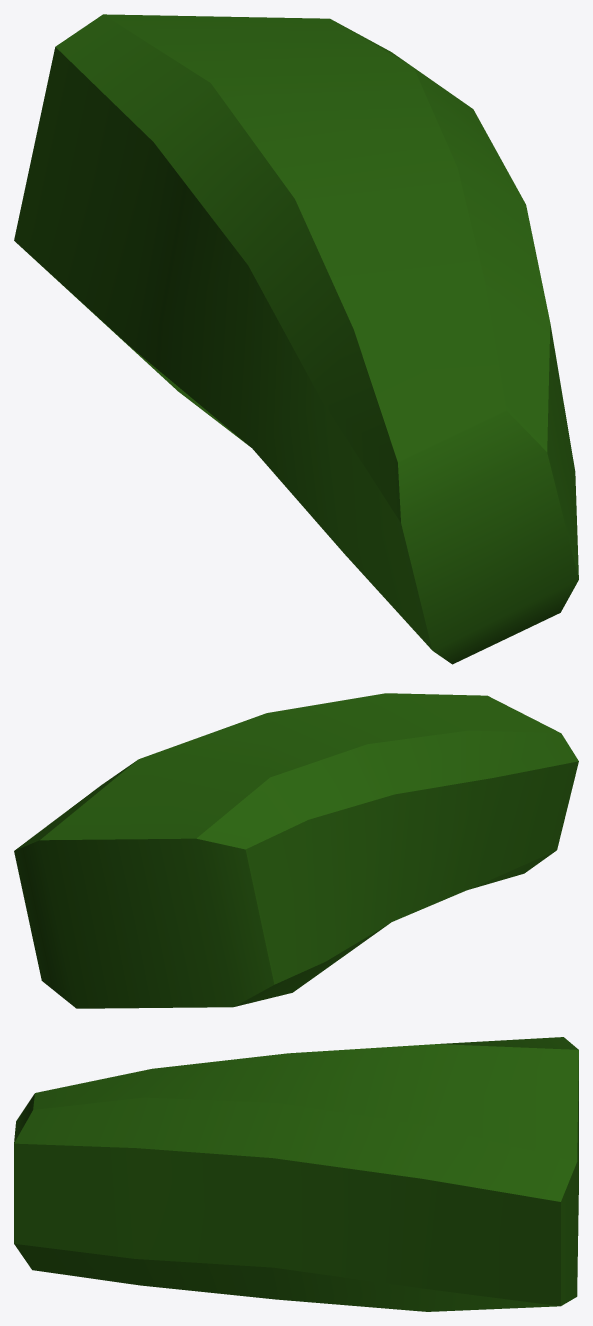
Rendered from m_pineapple.FBX.
3 views of the same model, one above another, from view 1: azimuth 30°, elevation 25°; view 2: azimuth 150°, elevation 25°; view 3: azimuth 270°, elevation 25° (orthographic). The views are drawn at different scales.
Parts seen in each view (by area): view 1: m_pineapple; view 2: m_pineapple; view 3: m_pineapple.
Boxes of the visible parts, x1,y1,x2,y2 form: m_pineapple: (14,14,578,664); m_pineapple: (14,693,578,1008); m_pineapple: (14,1037,578,1311).
Bounding box in the file's own units: 19.35 × 15.92 × 35.59.
